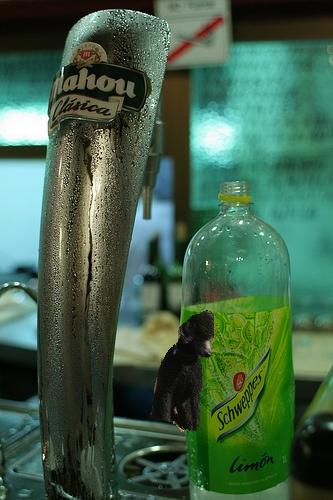tampered: (151, 311, 214, 432)
